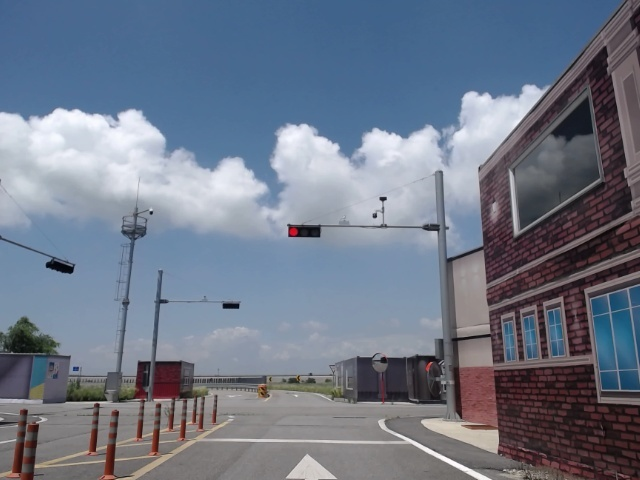red_3: (286, 225, 323, 239)
